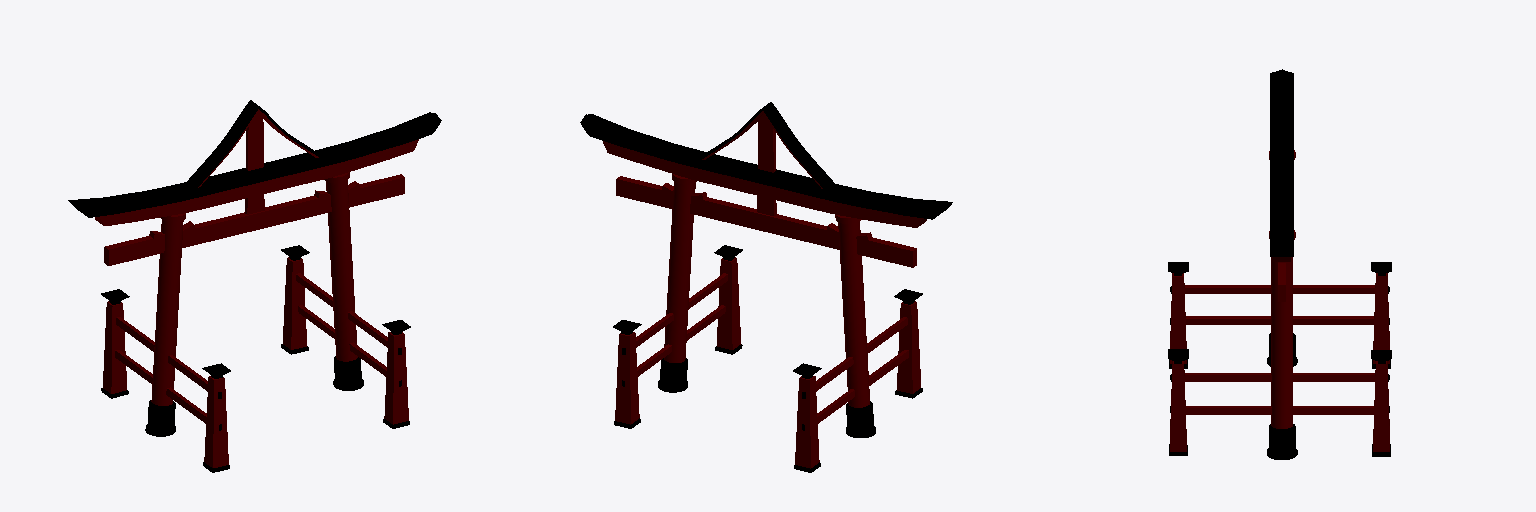
Rendered from Ryoubu_3.obj.
3 views of the same model, side by side, from view 1: azimuth 30°, elevation 25°; view 2: azimuth 150°, elevation 25°; view 3: azimuth 270°, elevation 25° (orthographic).
Visible parts, largest first — view 1: Cube.049_Cube.071; view 2: Cube.049_Cube.071; view 3: Cube.049_Cube.071.
Boxes of the visible parts, box(x1,y1,x2,y2) form: Cube.049_Cube.071: box(68, 100, 441, 472); Cube.049_Cube.071: box(580, 102, 952, 472); Cube.049_Cube.071: box(1168, 69, 1391, 459).
Size of the model in its own units: 19.43 by 15.63 by 10.44.